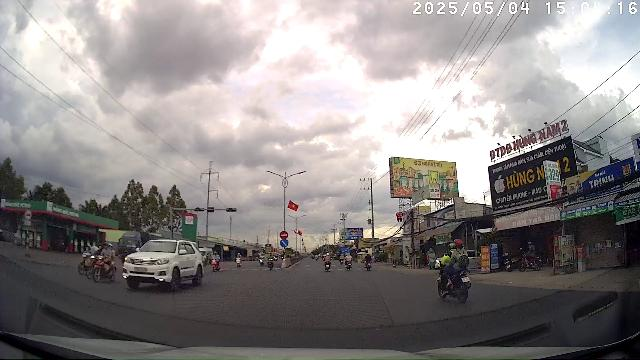102-cam-di-nguoc-chieu: (280, 230, 288, 239)
302a-huong-phai-di-vong-chuong-ngai-vat-1: (280, 239, 289, 248)
